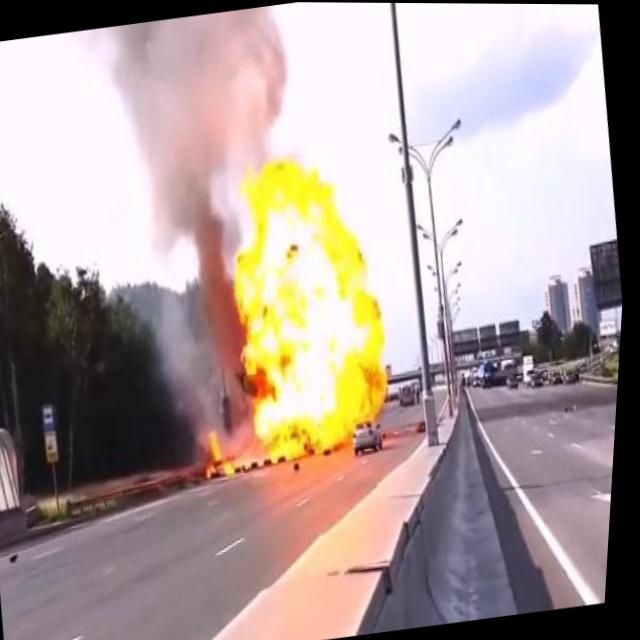fire: (207, 136, 415, 462), (202, 420, 251, 482)
